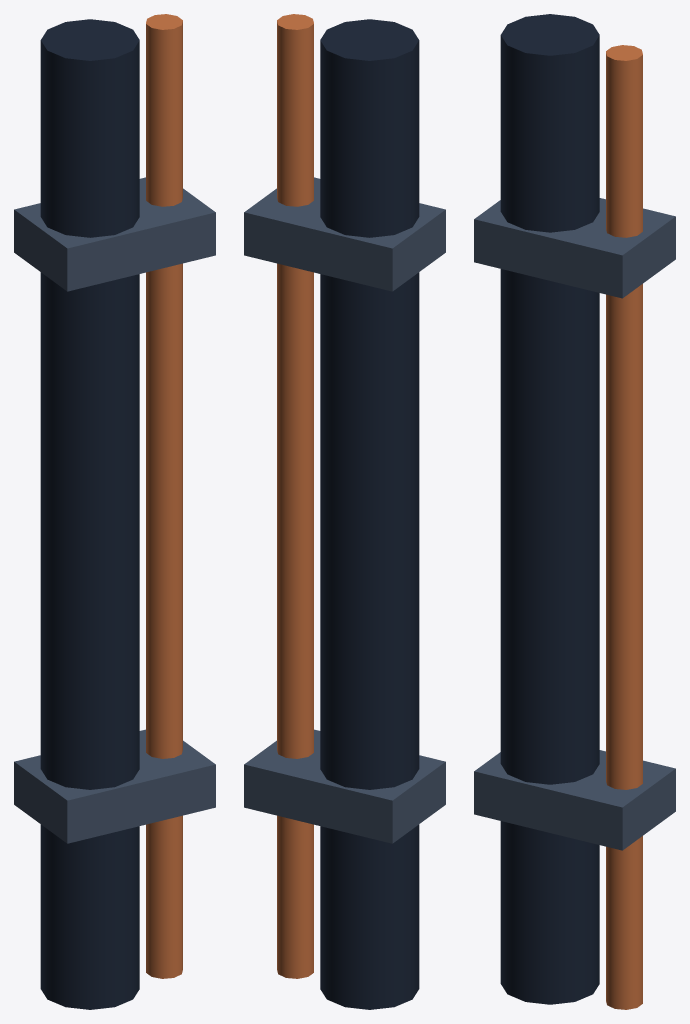
Rendered from acc-lineset-insulated.glb.
3 views of the same model, side by side, from view 1: azimuth 30°, elevation 25°; view 2: azimuth 150°, elevation 25°; view 3: azimuth 330°, elevation 25° (orthographic).
Visible parts, largest first — view 1: hvac-fitting-lineset-port-kit; view 2: hvac-fitting-lineset-port-kit; view 3: hvac-fitting-lineset-port-kit.
Part boxes in pixels (bbox=[...]): hvac-fitting-lineset-port-kit: bbox=[14, 14, 215, 1009]; hvac-fitting-lineset-port-kit: bbox=[244, 14, 445, 1009]; hvac-fitting-lineset-port-kit: bbox=[474, 14, 675, 1009].
Bounding box in the file's own units: 0.09 × 0.55 × 0.056.
